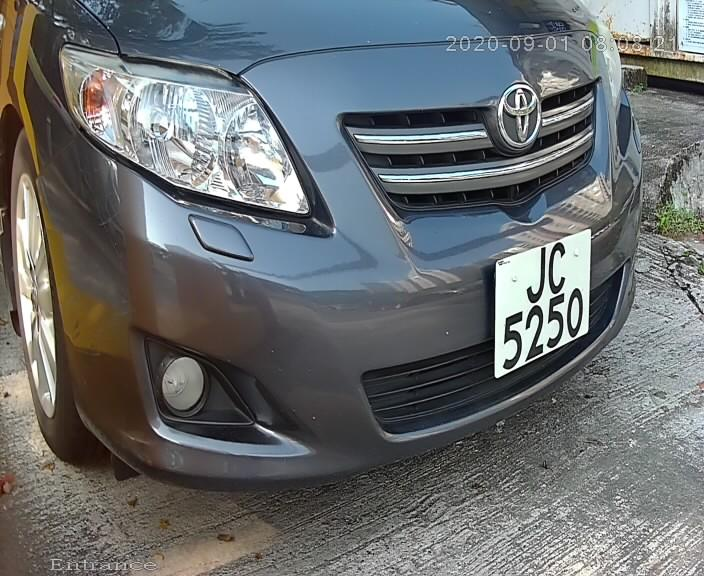License Plate: (488, 219, 598, 379)
